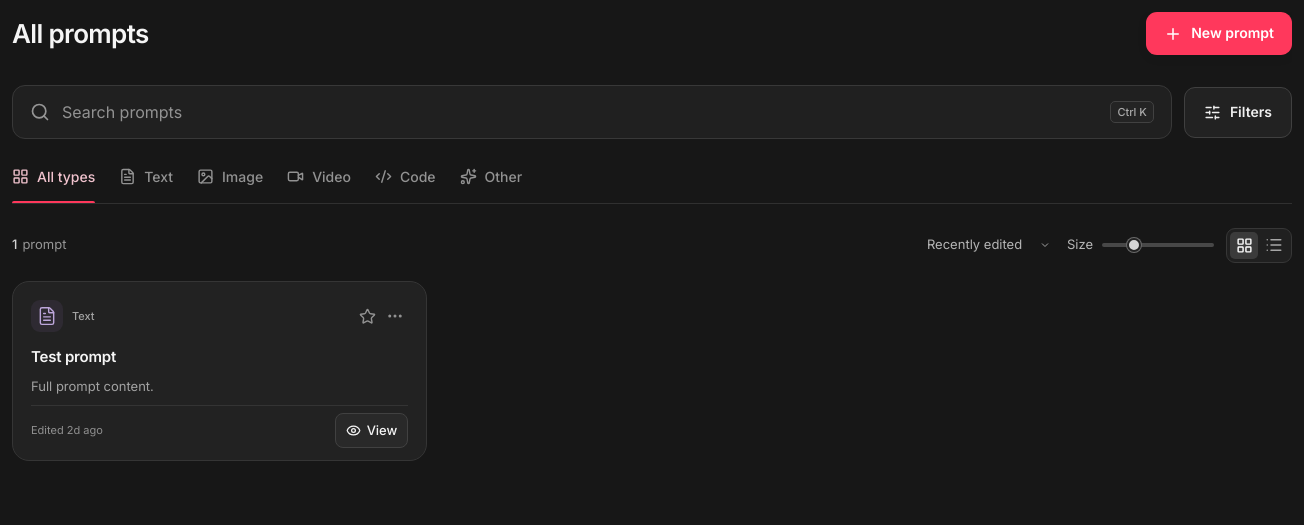
Test: device-local grid size › keeps resizing usable and reports session-only behavior when storage rejects writes
The width and height of the screenshot is (1304, 525).
Set the slider named "Card size" to "420" at (1164,245), box 1102,227 -> 1214,263
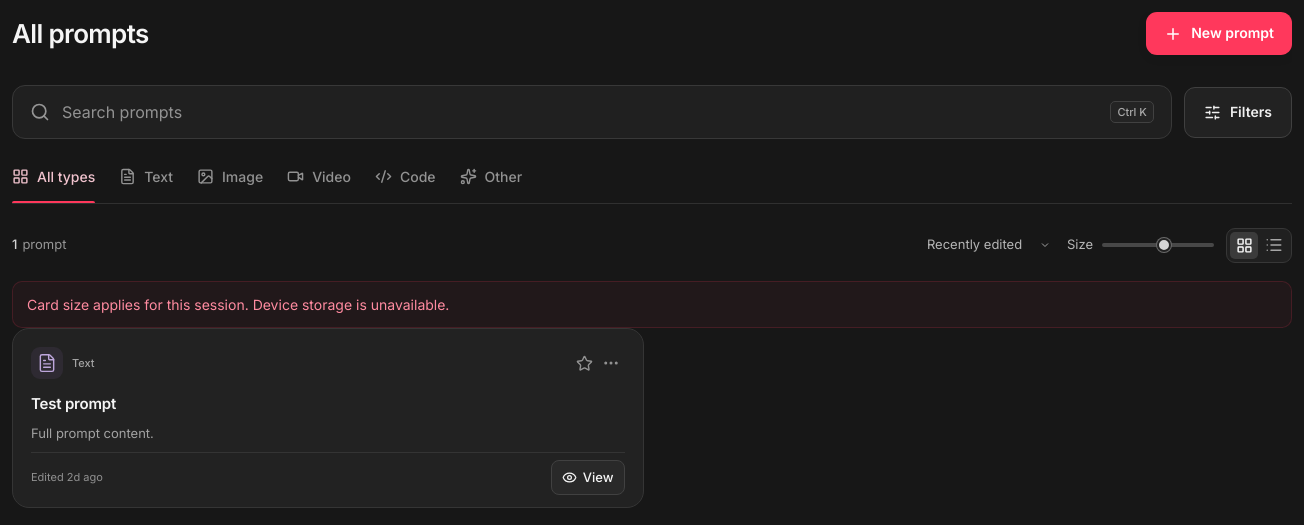
Expected: the button with aria-label "Copy Test prompt" is shown, 31,392 -> 624,444
Result: the text "Card size applies for this session. Device storage is unavailable." is shown at 12,281 -> 1292,328
